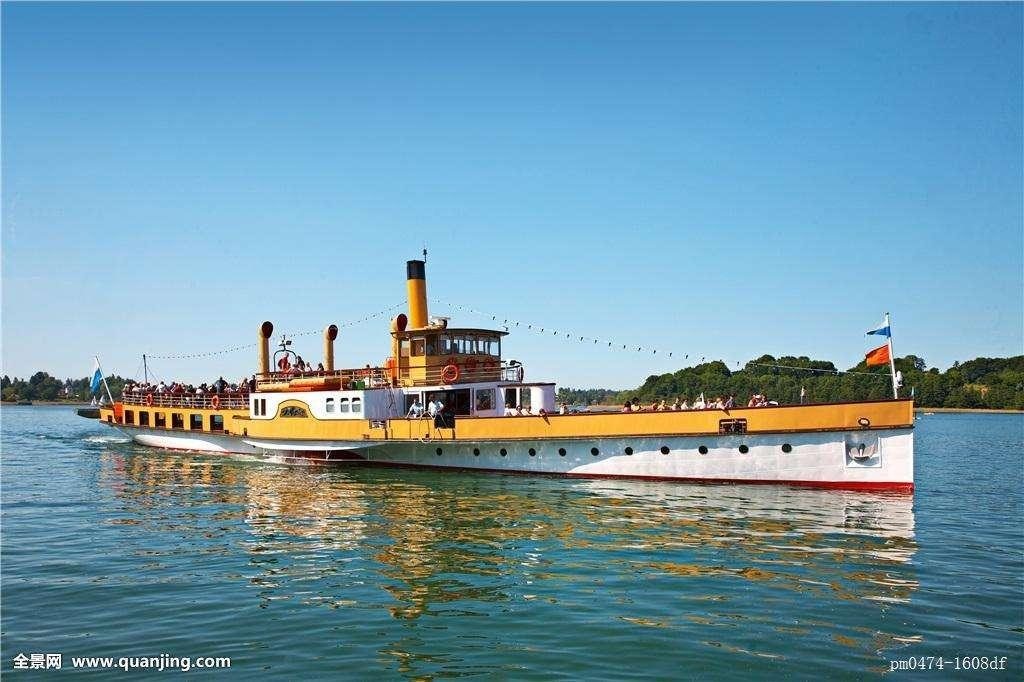otherboat: (75, 243, 931, 477)
